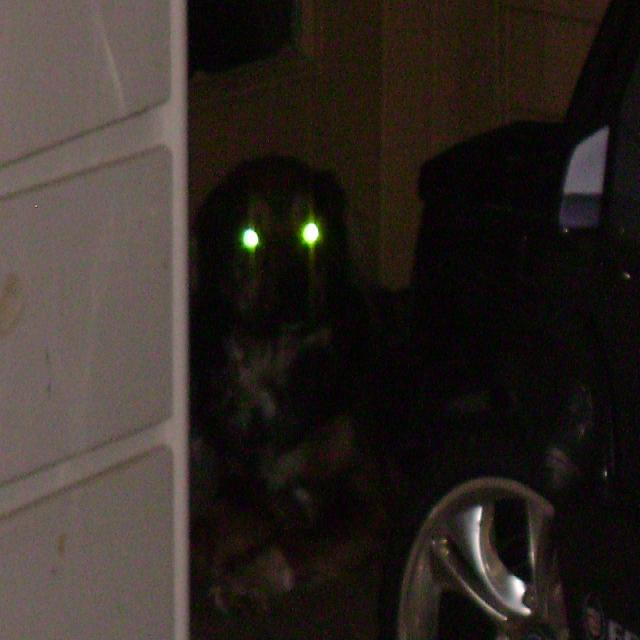Dog: (172, 143, 394, 584)
